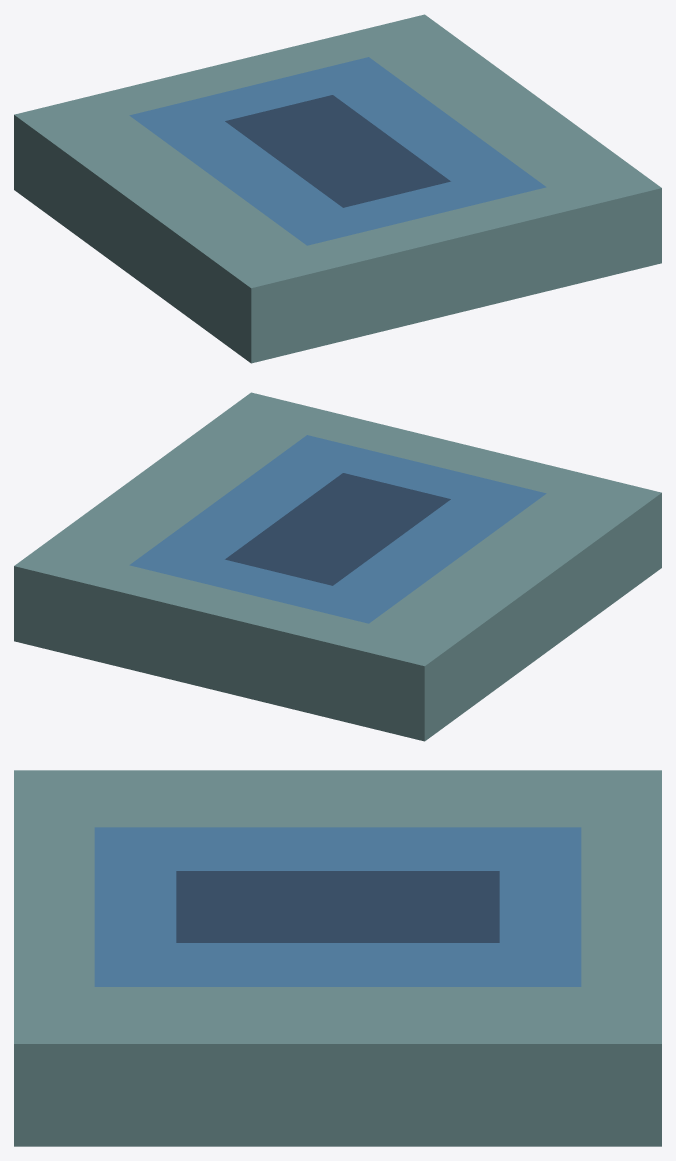
File: g_t_BedroomFloor.fbx
3 views of the same model, one above another, from view 1: azimuth 30°, elevation 25°; view 2: azimuth 150°, elevation 25°; view 3: azimuth 270°, elevation 25° (orthographic). The views are drawn at different scales.
Visible parts, largest first — view 1: g_t_BedroomFloor; view 2: g_t_BedroomFloor; view 3: g_t_BedroomFloor.
Boxes of the visible parts, left/top/right/bottom form: g_t_BedroomFloor: left=14, top=14, right=661, bottom=363; g_t_BedroomFloor: left=14, top=392, right=661, bottom=741; g_t_BedroomFloor: left=14, top=770, right=661, bottom=1146.
Size of the model in its own units: 1 by 0.175 by 1.
